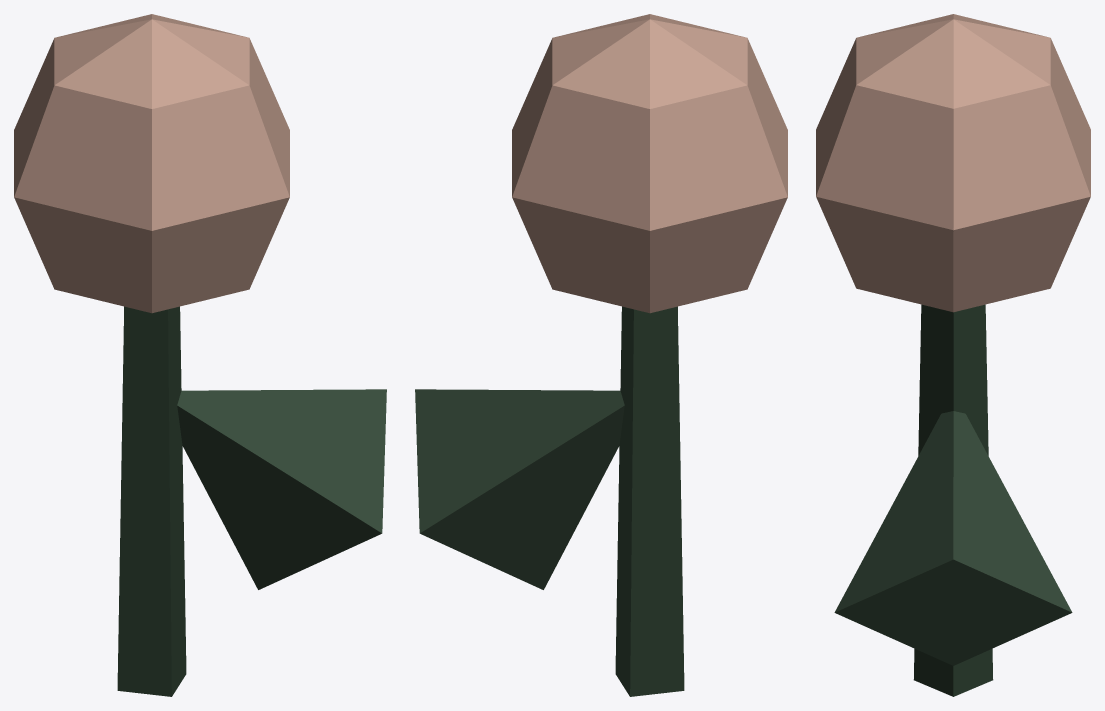
File: flower.glb
The picture shows the model from 3 angles, left to right: view 1: azimuth 30°, elevation 25°; view 2: azimuth 150°, elevation 25°; view 3: azimuth 270°, elevation 25°; orthographic projection.
Parts seen in each view (by area): view 1: n2, n3, n1; view 2: n2, n3, n1; view 3: n2, n3, n1.
Boxes of the visible parts, x1,y1,x2,y2 form: n2: [14, 14, 289, 313]; n3: [177, 389, 386, 589]; n1: [117, 306, 186, 696]; n2: [512, 14, 787, 313]; n3: [415, 389, 624, 589]; n1: [615, 306, 684, 696]; n2: [816, 14, 1090, 312]; n3: [834, 411, 1072, 665]; n1: [913, 304, 993, 696].
Size of the model in its own units: 0.519 by 0.882 by 0.3326.
